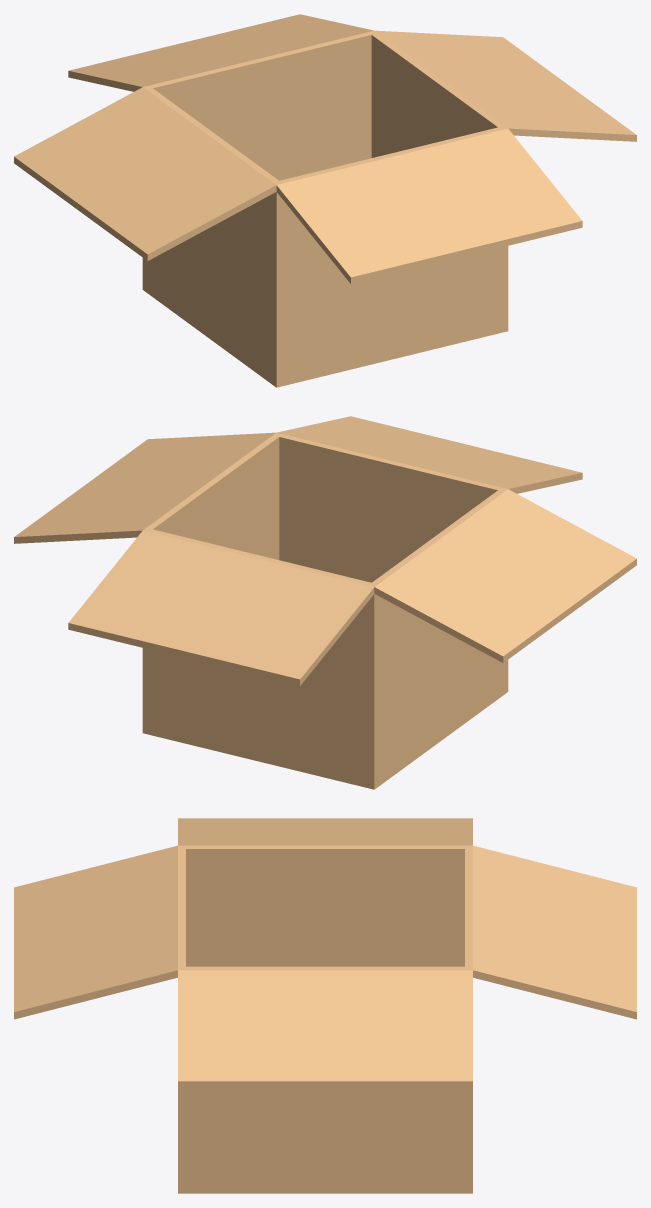
3 renders of one model, top to bottom at view 1: azimuth 30°, elevation 25°; view 2: azimuth 150°, elevation 25°; view 3: azimuth 270°, elevation 25°, orthographic. The views are drawn at different scales.
Parts seen in each view (by area): view 1: Box_4; view 2: Box_4; view 3: Box_4.
Part boxes in pixels (x1,y1,x2,y2): Box_4: (14,14,636,387); Box_4: (14,416,636,789); Box_4: (14,818,636,1193).
Size of the model in its own units: 138 by 54.48 by 138.
1 material, 1 textured.
